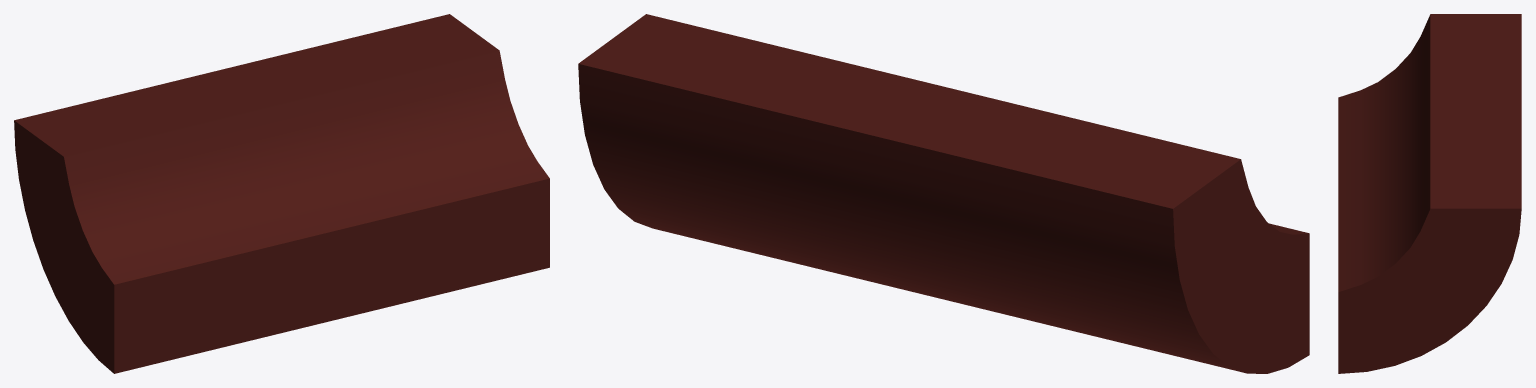
File: vox_road_rampconcave.fbx
3 views of the same model, side by side, from view 1: azimuth 30°, elevation 25°; view 2: azimuth 150°, elevation 25°; view 3: azimuth 270°, elevation 25° (orthographic). The views are drawn at different scales.
Visible parts, largest first — view 1: Cube.077; view 2: Cube.077; view 3: Cube.077.
Boxes of the visible parts, bbox=[...] form: Cube.077: bbox=[14, 14, 549, 373]; Cube.077: bbox=[578, 14, 1309, 373]; Cube.077: bbox=[1338, 14, 1521, 373].
Bounding box in the file's own units: 64 × 25.32 × 25.47.
